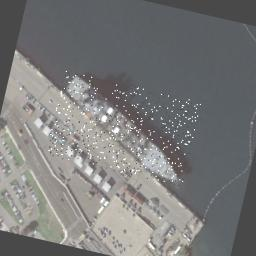boat: (61, 73, 182, 185)
